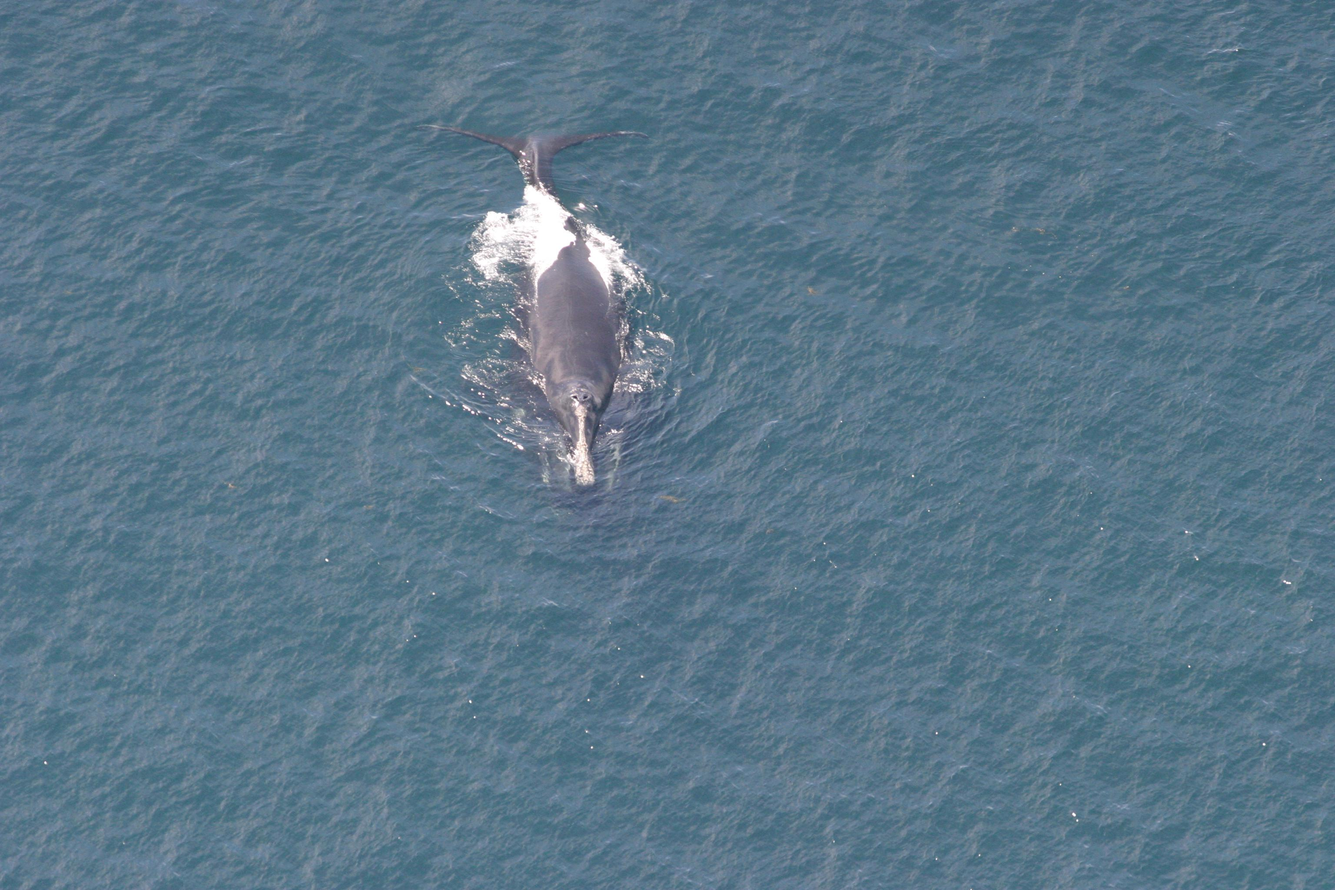whale: (405, 112, 677, 519)
